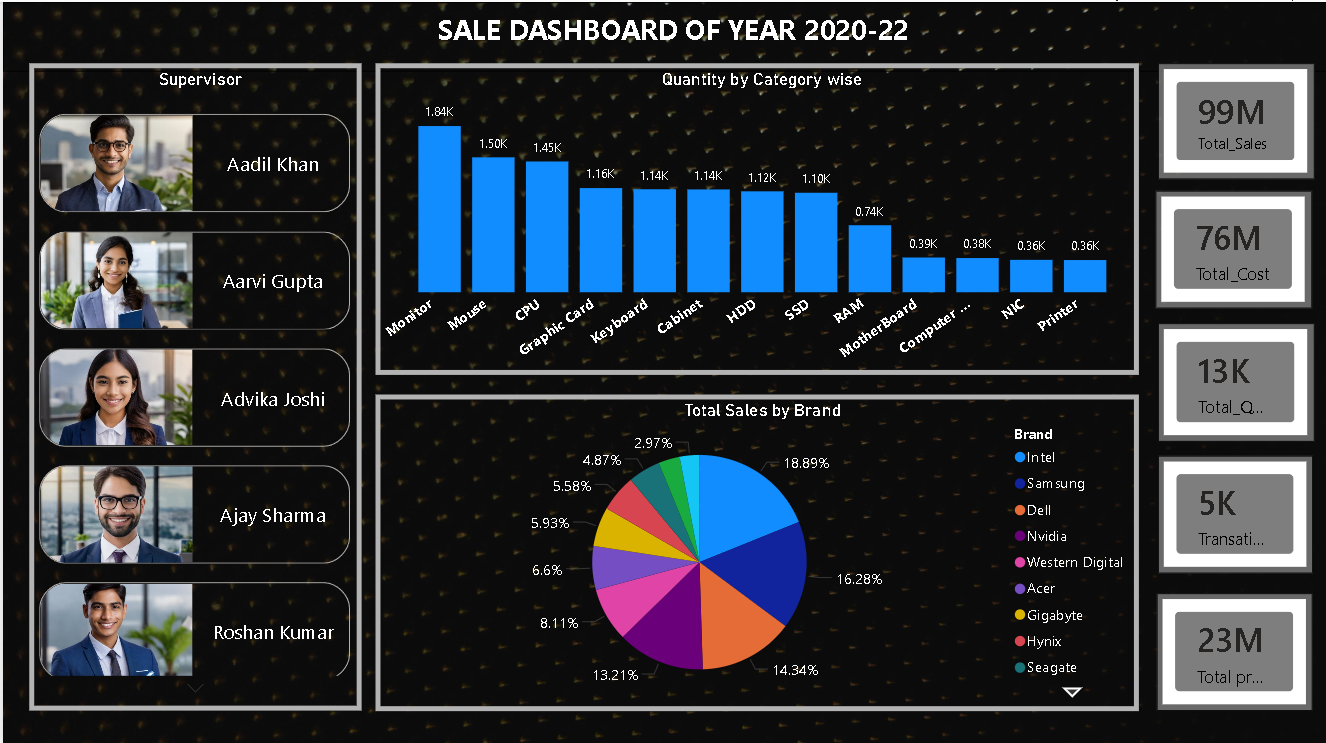

Layout of this report page (visuals, bound fields, positions):
{"tool":"powerbi","page":{"name":"Page 1","canvas":[1280,720],"ordinal":0},"visuals":[{"type":"textbox","box":[0,0,1280,67.6],"z":0},{"type":"cardVisual","fields":{"Data":["Sum(Sales_Data.Total_Sales)"]},"box":[1114.8,59.1,150.8,112.2],"z":1000},{"type":"cardVisual","fields":{"Data":["Sum(Sales_Data.Total_Cost)"]},"box":[1112.3,182.2,150.8,113.4],"z":2000},{"type":"cardVisual","fields":{"Data":["Sum(Sales_Data.Quantity)"]},"box":[1114.8,310.1,150.8,114.6],"z":3000},{"type":"cardVisual","fields":{"Data":["CountNonNull(Sales_Data.Order_Number)"]},"box":[1114.8,437.9,149.6,113.4],"z":4000},{"type":"cardVisual","fields":{"Data":["Sales_Data.Total profit"]},"box":[1113.5,571,150.5,113.9],"z":5000},{"type":"clusteredColumnChart","title":"Quantity by Category wise ","fields":{"Y":["Sum(Sales_Data.Quantity)"],"Category":["Sales_Data.Category"]},"box":[359.5,59.1,737.1,300.4],"z":6000},{"type":"pieChart","fields":{"Y":["Sum(Sales_Data.Total_Sales)"],"Category":["Sales_Data.Brand"]},"box":[359.5,378.8,737.1,305.2],"z":7000},{"type":"listSlicer","fields":{"Values":["Supervisor.Supervisor"]},"box":[25.3,59.1,320.9,624.9],"z":8000}]}

Visuals, with their boxes in screenshot pixels (x1, y1, x2, y2), scaled from the page's 1280x720 canvas onto the 1326x743 screenshot:
textbox: 0/0/1325/70
cardVisual - Sum(Sales_Data.Total_Sales): 1155/61/1311/177
cardVisual - Sum(Sales_Data.Total_Cost): 1152/188/1308/305
cardVisual - Sum(Sales_Data.Quantity): 1155/320/1311/438
cardVisual - CountNonNull(Sales_Data.Order_Number): 1155/452/1310/569
cardVisual - Sales_Data.Total profit: 1154/589/1309/707
"Quantity by Category wise " clusteredColumnChart: 372/61/1136/371
pieChart - Sum(Sales_Data.Total_Sales) x Sales_Data.Brand: 372/391/1136/706
listSlicer - Supervisor.Supervisor: 26/61/359/706
